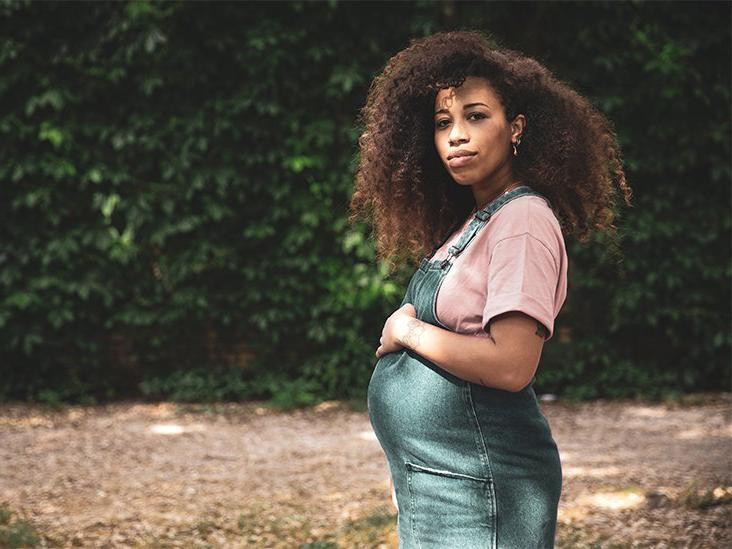Sober: (422, 87, 511, 181)
